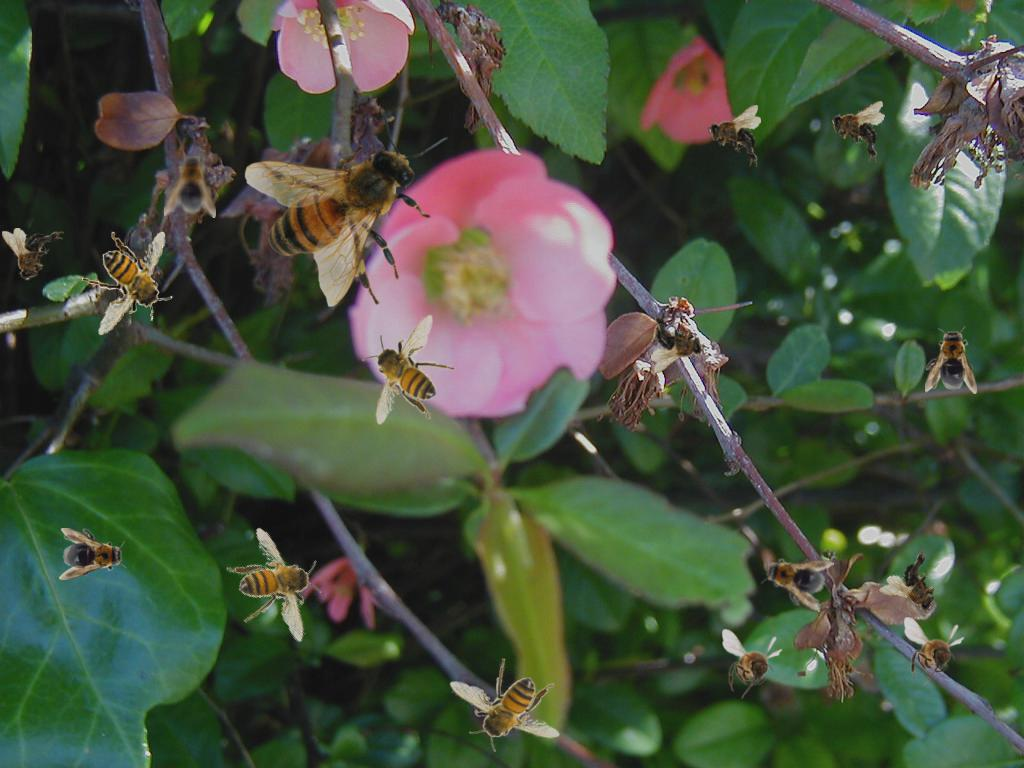Bee: (244, 108, 448, 307), (203, 515, 350, 661), (74, 222, 181, 344), (362, 314, 456, 425), (449, 658, 560, 752), (876, 545, 959, 627), (755, 545, 835, 613), (722, 629, 783, 699), (904, 617, 965, 687), (826, 96, 887, 164), (164, 150, 216, 218), (59, 528, 127, 580), (925, 326, 977, 394), (708, 105, 761, 167), (651, 311, 704, 373), (2, 228, 64, 281)
